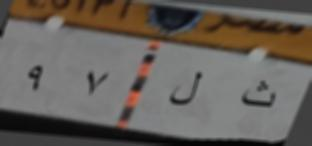7: (82, 68, 112, 100)
9: (23, 59, 48, 97)
laam: (170, 69, 202, 108)
thaa: (239, 71, 278, 116)
